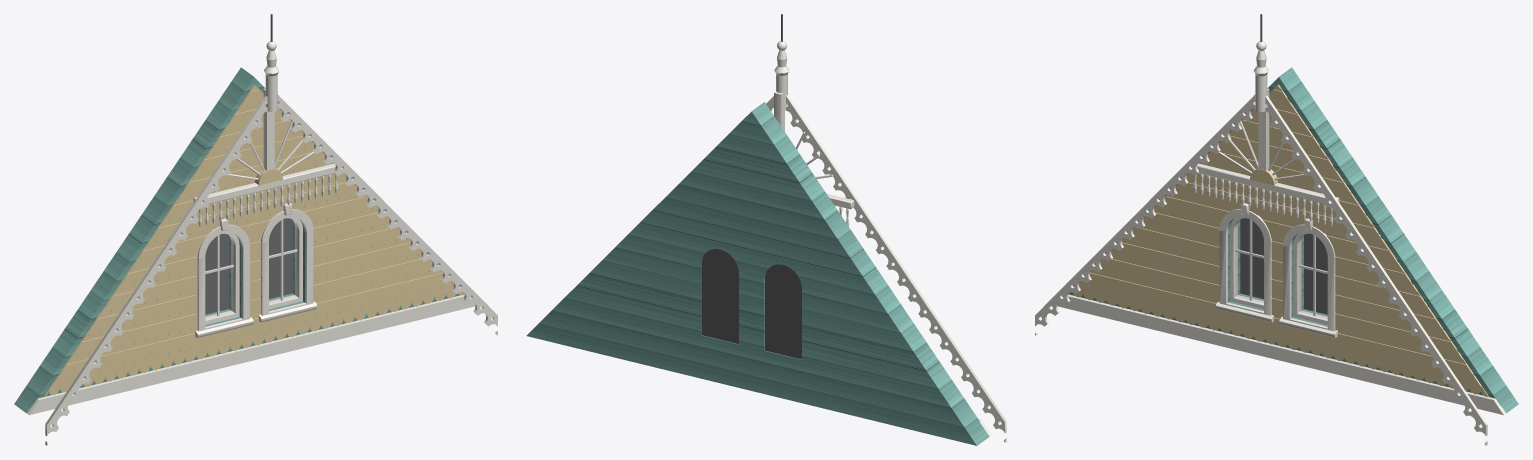
The model's file is gable_front_c.glb.
3 views of the same model, side by side, from view 1: azimuth 30°, elevation 25°; view 2: azimuth 150°, elevation 25°; view 3: azimuth 330°, elevation 25° (orthographic).
Parts seen in each view (by area): view 1: gable_front_c_acc_c, gable_front_c_trim, gable_front_c_siding_c, gable_front_c_glass, gable_front_c_dark, gable_front_c_frame; view 2: gable_front_c_siding_c, gable_front_c_dark, gable_front_c_trim; view 3: gable_front_c_acc_c, gable_front_c_trim, gable_front_c_siding_c, gable_front_c_glass, gable_front_c_dark, gable_front_c_frame.
Boxes of the visible parts, left/top/right/bottom form: gable_front_c_acc_c: left=44, top=84, right=464, bottom=396; gable_front_c_trim: left=27, top=41, right=497, bottom=445; gable_front_c_siding_c: left=14, top=67, right=463, bottom=413; gable_front_c_glass: left=206, top=219, right=296, bottom=317; gable_front_c_dark: left=205, top=218, right=292, bottom=314; gable_front_c_frame: left=205, top=217, right=302, bottom=324; gable_front_c_siding_c: left=526, top=102, right=989, bottom=445; gable_front_c_dark: left=701, top=249, right=801, bottom=359; gable_front_c_trim: left=766, top=41, right=1006, bottom=442; gable_front_c_acc_c: left=1068, top=84, right=1488, bottom=396; gable_front_c_trim: left=1035, top=41, right=1505, bottom=445; gable_front_c_siding_c: left=1069, top=67, right=1518, bottom=413; gable_front_c_glass: left=1236, top=219, right=1326, bottom=317; gable_front_c_dark: left=1240, top=218, right=1327, bottom=314; gable_front_c_frame: left=1230, top=217, right=1327, bottom=324.
Size of the model in its own units: 6 by 4.75 by 0.7856.
Materials: 7 (1 with a texture image).
